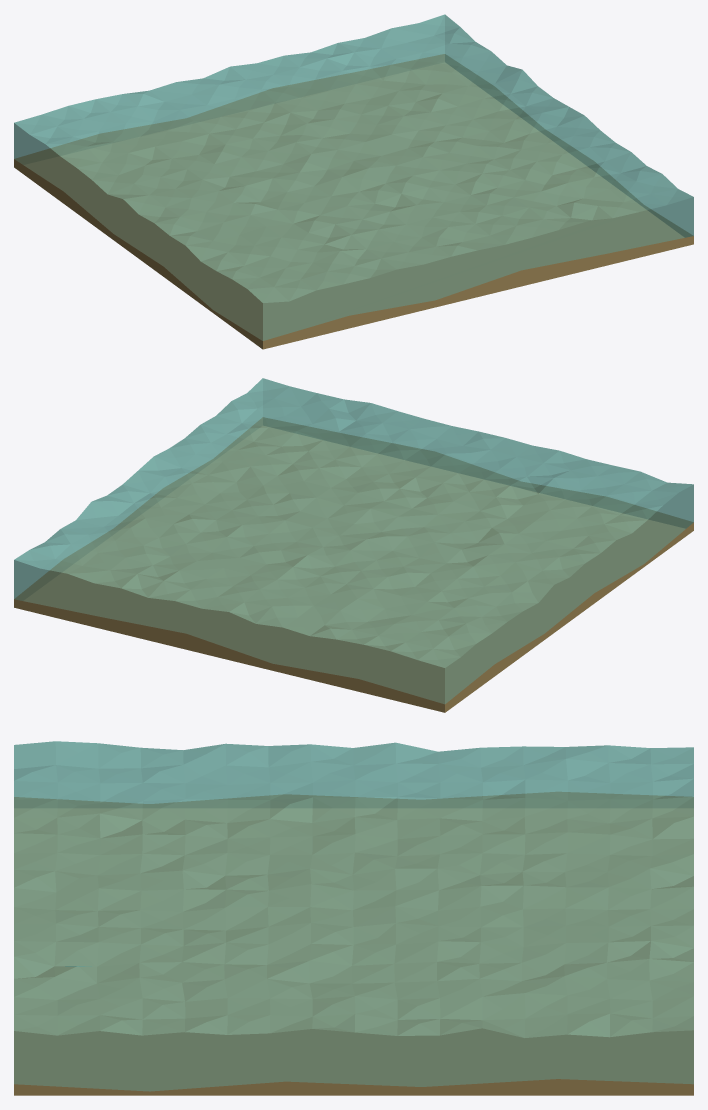
The picture shows the model from 3 angles, top to bottom: view 1: azimuth 30°, elevation 25°; view 2: azimuth 150°, elevation 25°; view 3: azimuth 270°, elevation 25°; orthographic projection. The views are drawn at different scales.
Visible parts, largest first — view 1: Base; view 2: Base; view 3: Base.
Part boxes in pixels (x1,y1,x2,y2): Base: (14, 14, 693, 349); Base: (14, 378, 693, 712); Base: (14, 741, 693, 1095).
Bounding box in the file's own units: 10000 × 1094 × 10000.
